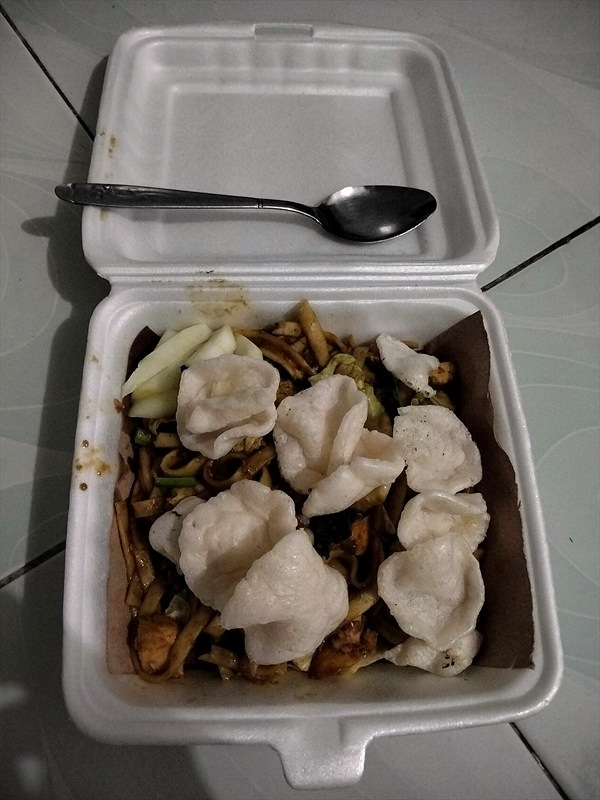Mie Goreng: (69, 165, 516, 688)
